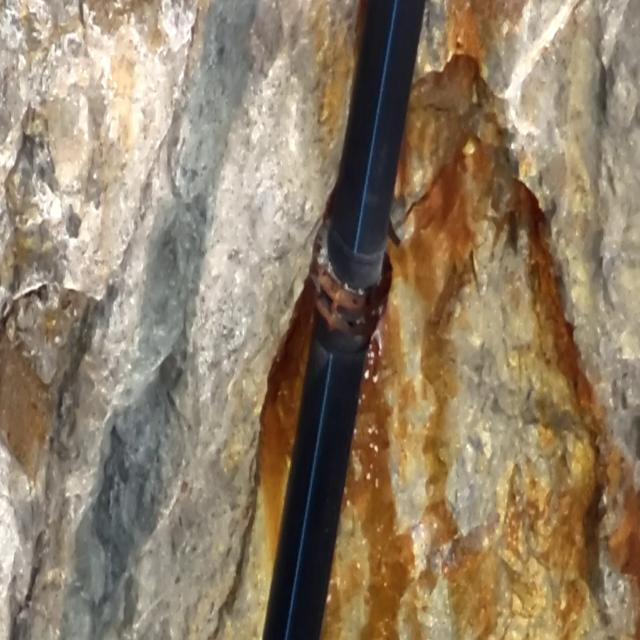leak: (351, 318, 392, 509)
